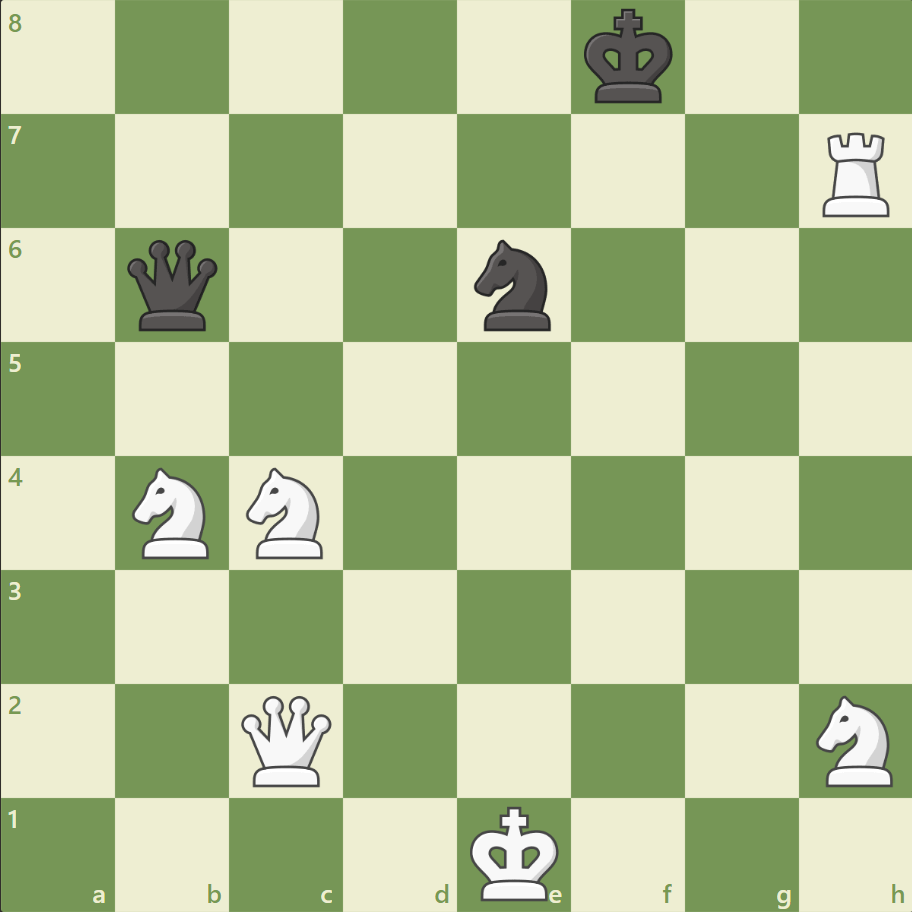K: (465, 798, 565, 906)
N: (124, 461, 222, 564), (238, 461, 335, 564), (806, 688, 903, 791)
Q: (237, 690, 336, 789)
R: (814, 125, 897, 222)
k: (579, 4, 679, 112)
n: (465, 234, 562, 337)
q: (124, 236, 223, 335)
